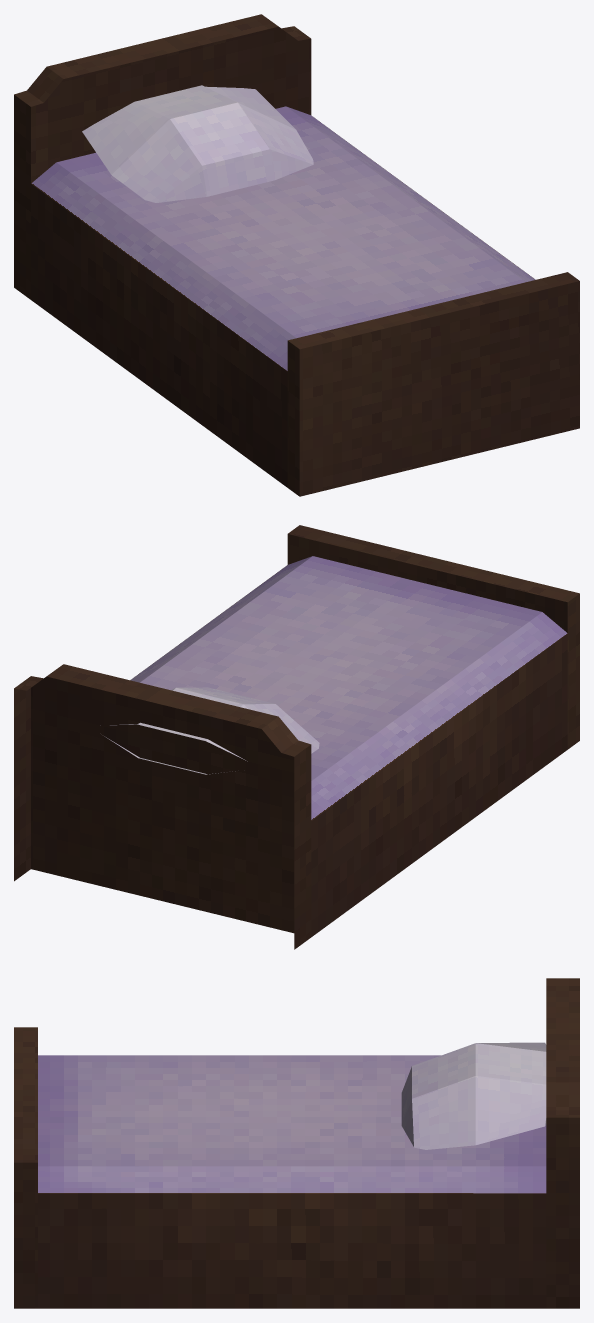
The model's file is Seeker_Bed.fbx.
The picture shows the model from 3 angles, top to bottom: view 1: azimuth 30°, elevation 25°; view 2: azimuth 150°, elevation 25°; view 3: azimuth 270°, elevation 25°; orthographic projection.
Parts seen in each view (by area): view 1: Cube.002; view 2: Cube.002; view 3: Cube.002.
Boxes of the visible parts, x1,y1,x2,y2 form: Cube.002: [14, 14, 579, 496]; Cube.002: [14, 525, 579, 949]; Cube.002: [14, 978, 579, 1308].
Size of the model in its own units: 80.14 by 58.2 by 142.
